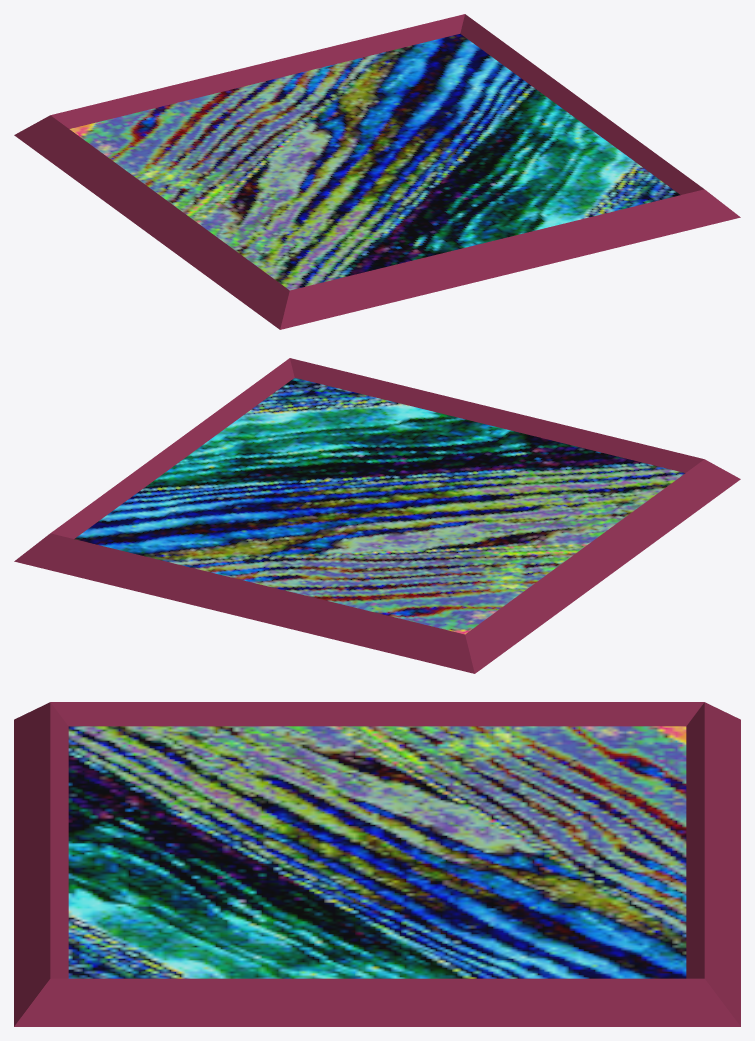
Rendered from DicePlatform.gltf.
3 views of the same model, one above another, from view 1: azimuth 30°, elevation 25°; view 2: azimuth 150°, elevation 25°; view 3: azimuth 270°, elevation 25° (orthographic). The views are drawn at different scales.
Visible parts, largest first — view 1: Cube.001, Cube; view 2: Cube.001, Cube; view 3: Cube.001, Cube.
Boxes of the visible parts, <box> form: Cube.001: <box>69,34,680,290</box>; Cube: <box>14,14,740,329</box>; Cube.001: <box>74,378,685,634</box>; Cube: <box>14,358,740,673</box>; Cube.001: <box>68,726,686,978</box>; Cube: <box>14,702,740,1026</box>.
Size of the model in its own units: 4 by 0.2 by 4.
2 materials, 2 textured.
